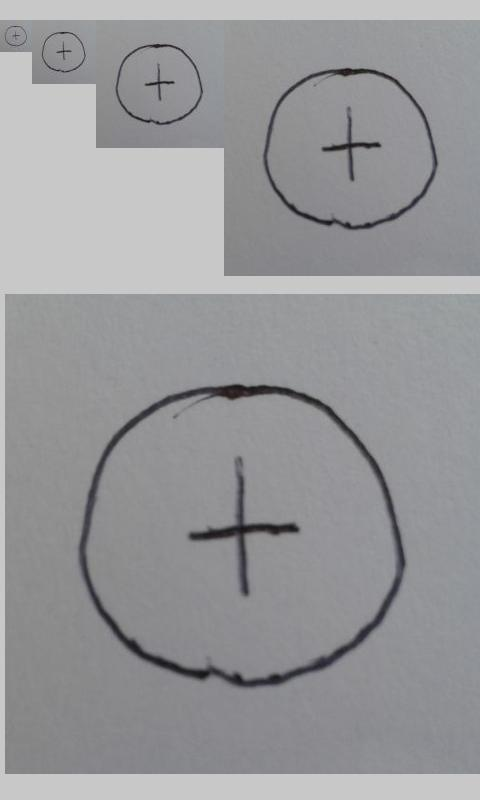button: (76, 381, 406, 691), (262, 67, 439, 230), (115, 43, 203, 125), (41, 31, 86, 73), (4, 25, 27, 47)
